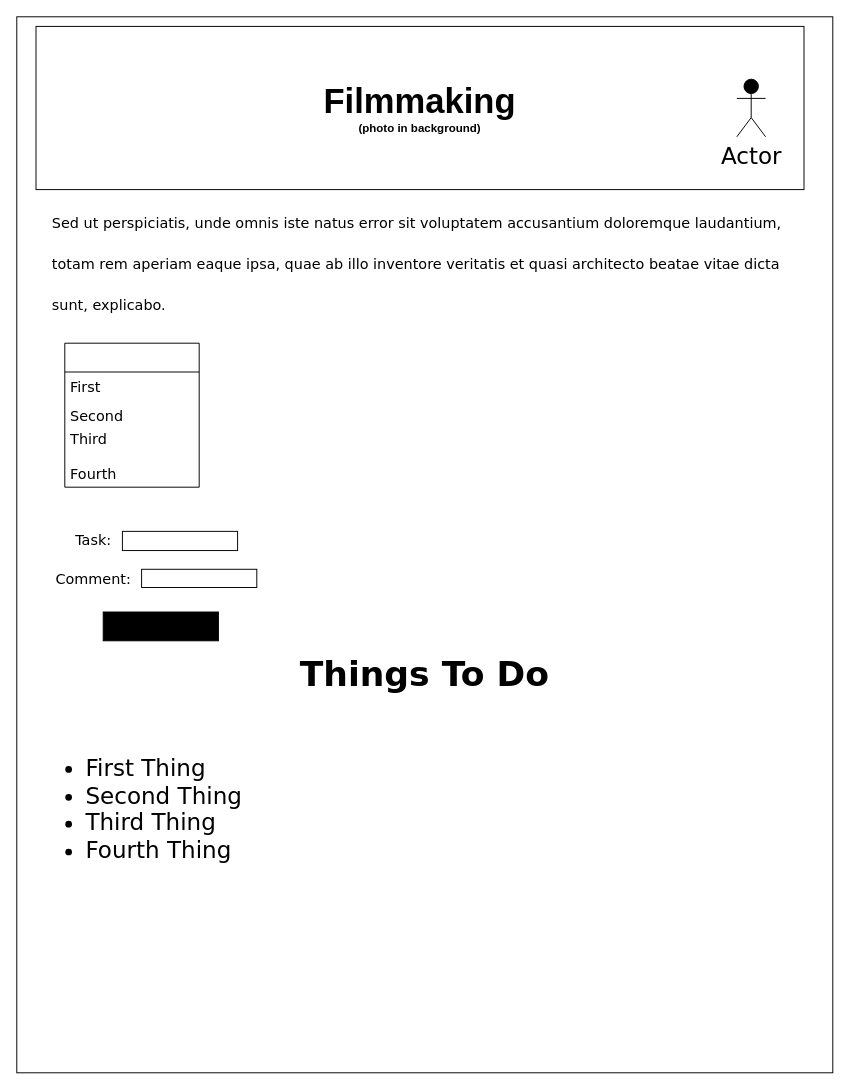
The diagram is 850 pixels wide and 1090 high, and some of its shapes have lost their labels. Here are the shapes that lost their labels. From the top down, the box of each, then its label:
(64, 342, 199, 487): Tasks
(102, 611, 218, 641): Add
